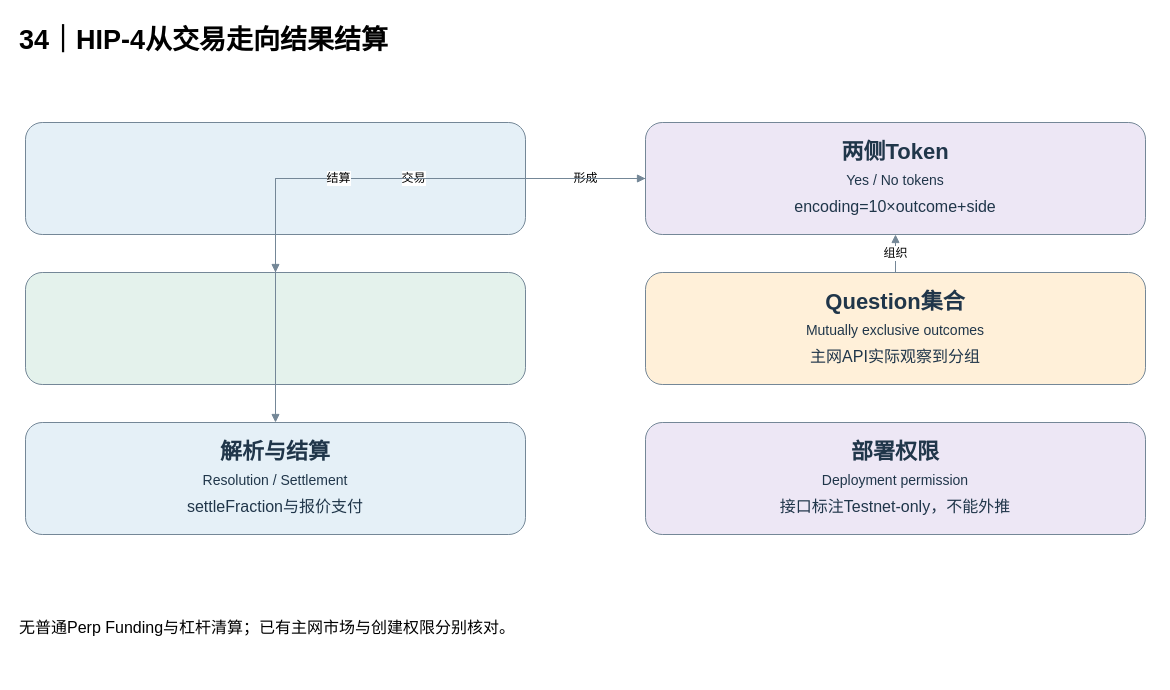
Image size: 1170x690. Some labels were removed from this diagram. The shapes that lost their labels are listed below. From the top down, each one's box as (x1, y1, x2, y2) in pixels, then its label:
(24, 122, 526, 234): 抵押与定义 Collateral / Definition 全额抵押，结果条件
(24, 272, 526, 384): 订单簿成交 Merged outcome book 互补流动性与角色
